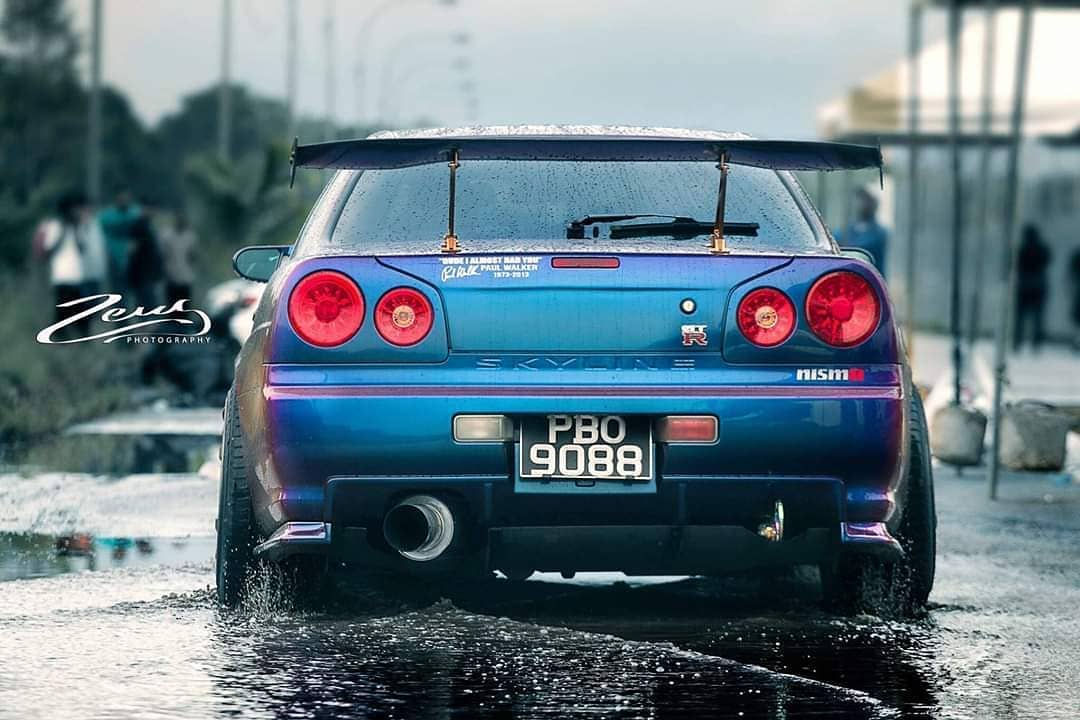License-Plate: (520, 413, 650, 477)
